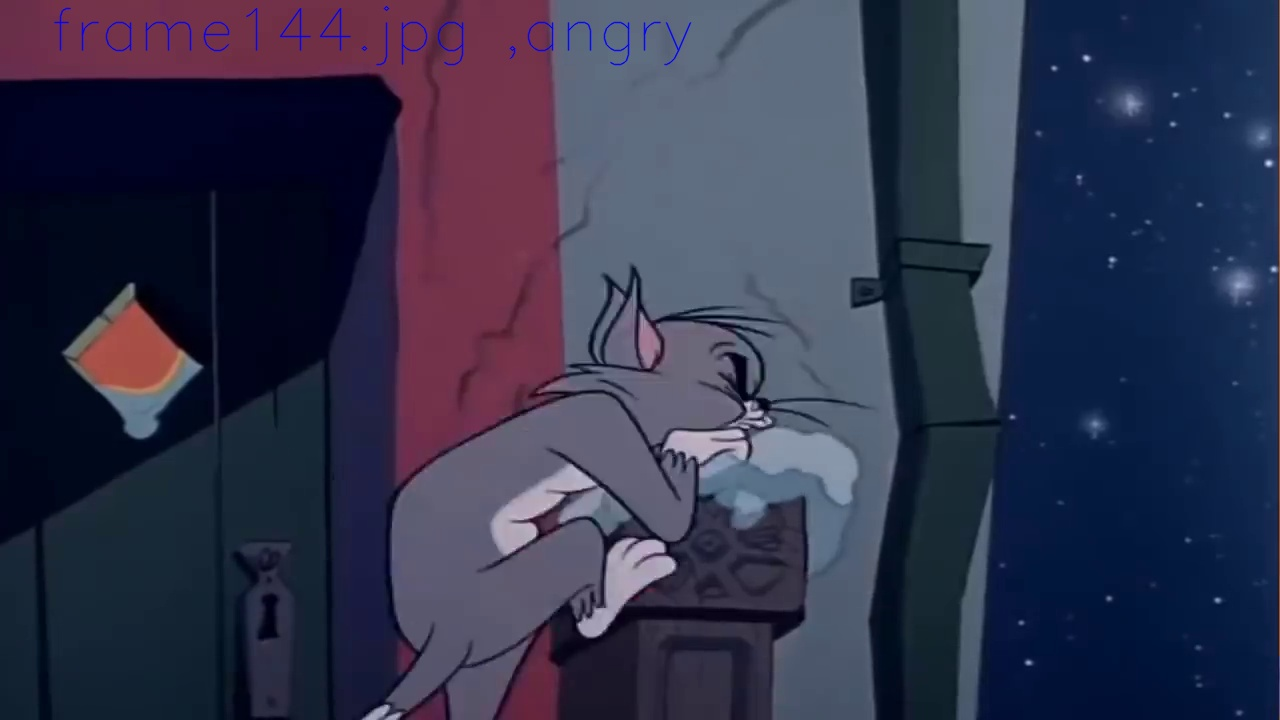angry: (709, 340, 772, 430)
